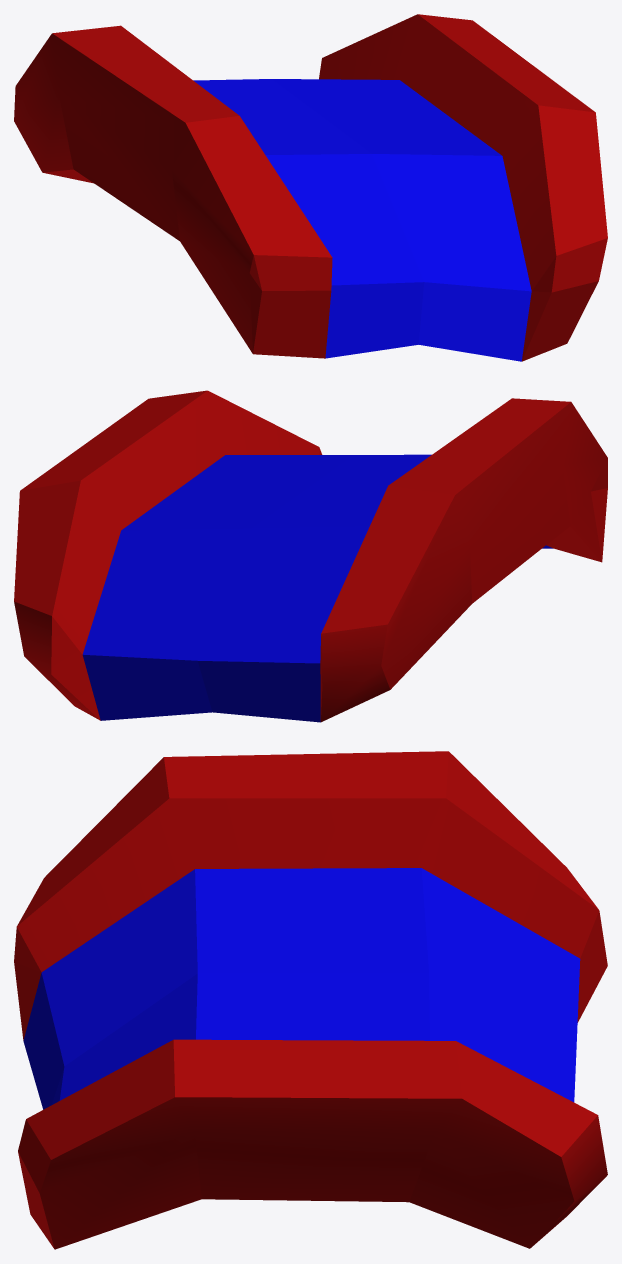
File: Chr_ShoulderAttachLeft_Static_04.fbx
The picture shows the model from 3 angles, top to bottom: view 1: azimuth 30°, elevation 25°; view 2: azimuth 150°, elevation 25°; view 3: azimuth 270°, elevation 25°; orthographic projection. The views are drawn at different scales.
Visible parts, largest first — view 1: Chr_ShoulderAttachLeft_04; view 2: Chr_ShoulderAttachLeft_04; view 3: Chr_ShoulderAttachLeft_04.
Boxes of the visible parts, bbox=[...] form: Chr_ShoulderAttachLeft_04: bbox=[14, 14, 607, 361]; Chr_ShoulderAttachLeft_04: bbox=[14, 390, 607, 722]; Chr_ShoulderAttachLeft_04: bbox=[14, 751, 607, 1249].
Size of the model in its own units: 21.44 by 12.77 by 22.4.
